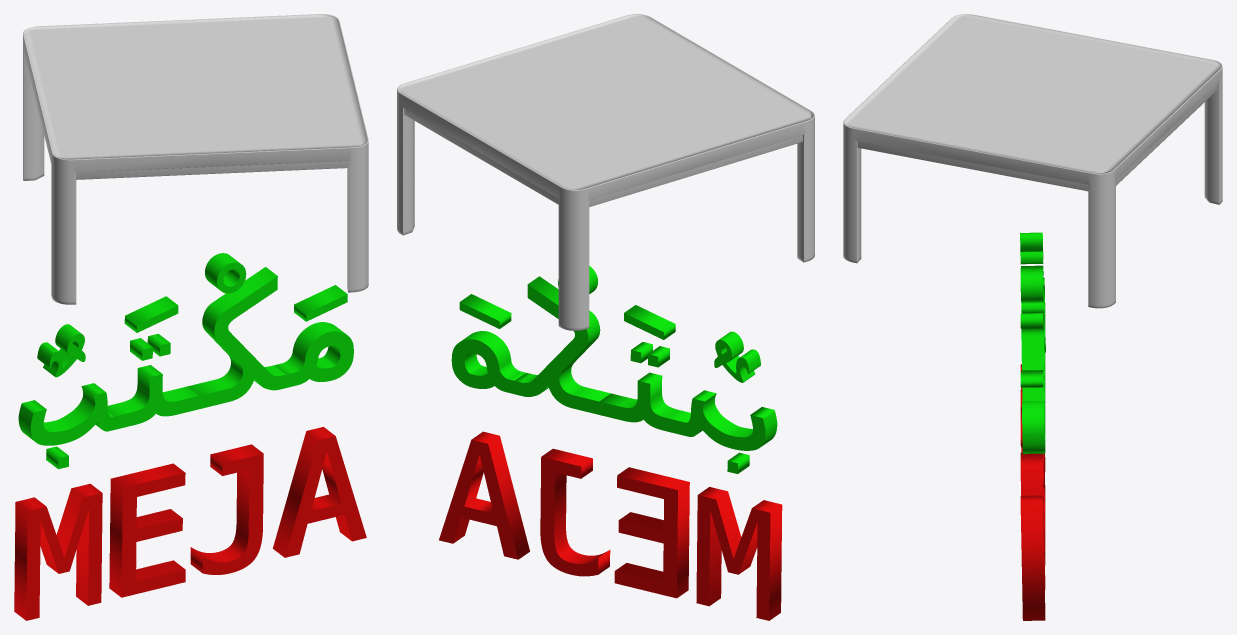
The model's file is table.fbx.
The picture shows the model from 3 angles, left to right: view 1: azimuth 30°, elevation 25°; view 2: azimuth 150°, elevation 25°; view 3: azimuth 270°, elevation 25°; orthographic projection. The views are drawn at different scales.
Parts seen in each view (by area): view 1: Cube, Text.005, Text, Cube.002, Text.004, Text.002, Text.003, Text.001; view 2: Cube, Text.005, Text, Cube.002, Text.004, Text.001, Text.003; view 3: Cube, Text.005, Text, Cube.002, Text.002, Text.004.
Part boxes in pixels (bbox=[...]): Cube: bbox=[23, 14, 368, 304]; Text.005: bbox=[14, 427, 366, 620]; Text: bbox=[18, 267, 353, 469]; Cube.002: bbox=[25, 56, 347, 179]; Text.004: bbox=[37, 324, 85, 377]; Text.002: bbox=[205, 253, 246, 293]; Text.003: bbox=[124, 296, 178, 332]; Text.001: bbox=[294, 285, 347, 321]; Cube: bbox=[397, 14, 814, 330]; Text.005: bbox=[439, 431, 782, 620]; Text: bbox=[451, 276, 777, 473]; Cube.002: bbox=[404, 108, 802, 206]; Text.004: bbox=[714, 331, 760, 382]; Text.001: bbox=[459, 294, 511, 328]; Text.003: bbox=[624, 305, 675, 339]; Cube: bbox=[843, 14, 1222, 308]; Text.005: bbox=[1020, 364, 1045, 620]; Text: bbox=[1020, 277, 1045, 453]; Cube.002: bbox=[857, 84, 1217, 191]; Text.002: bbox=[1020, 270, 1043, 302]; Text.004: bbox=[1020, 232, 1043, 264].
Size of the model in its own units: 337 by 445 by 337.
